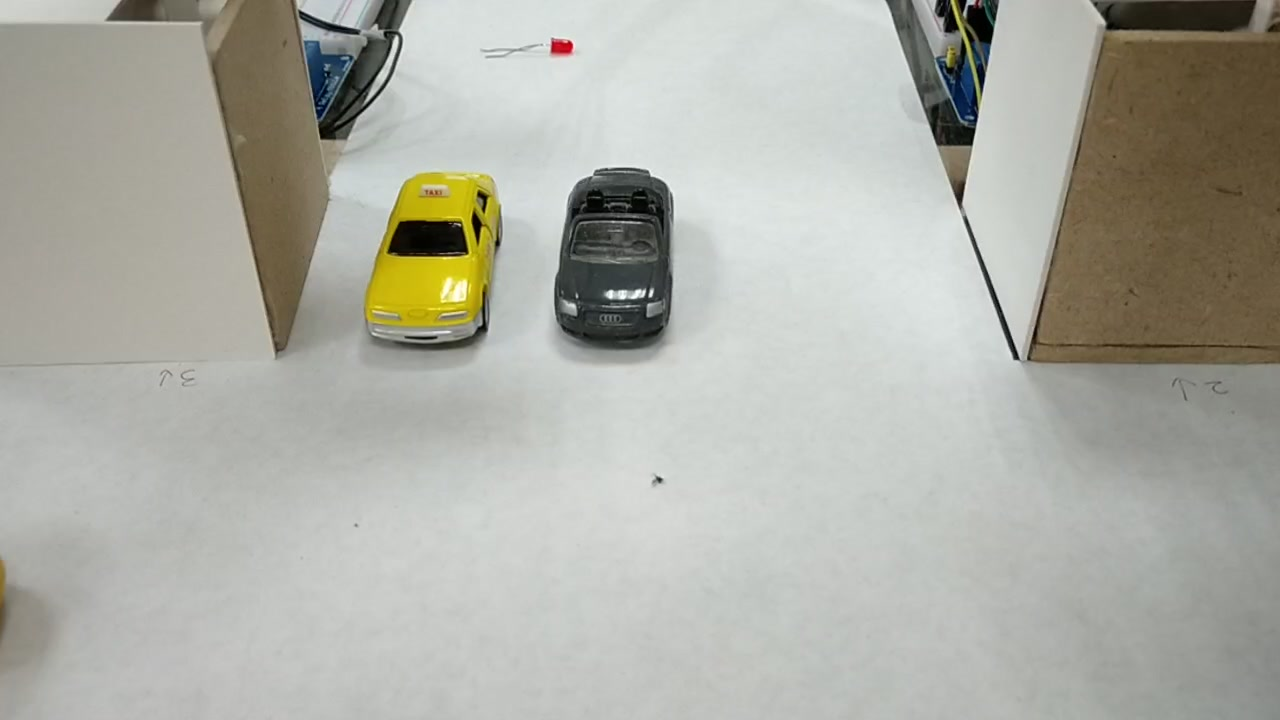car: (366, 170, 502, 351), (552, 159, 668, 348)
